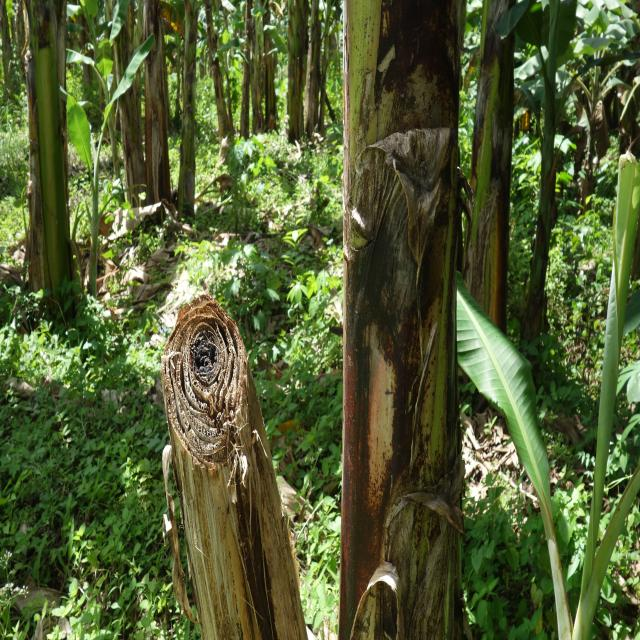Banana-plant: (337, 1, 462, 640), (464, 0, 515, 415), (23, 0, 79, 341), (137, 0, 176, 230), (176, 0, 201, 228), (121, 0, 144, 234), (286, 0, 306, 142)
